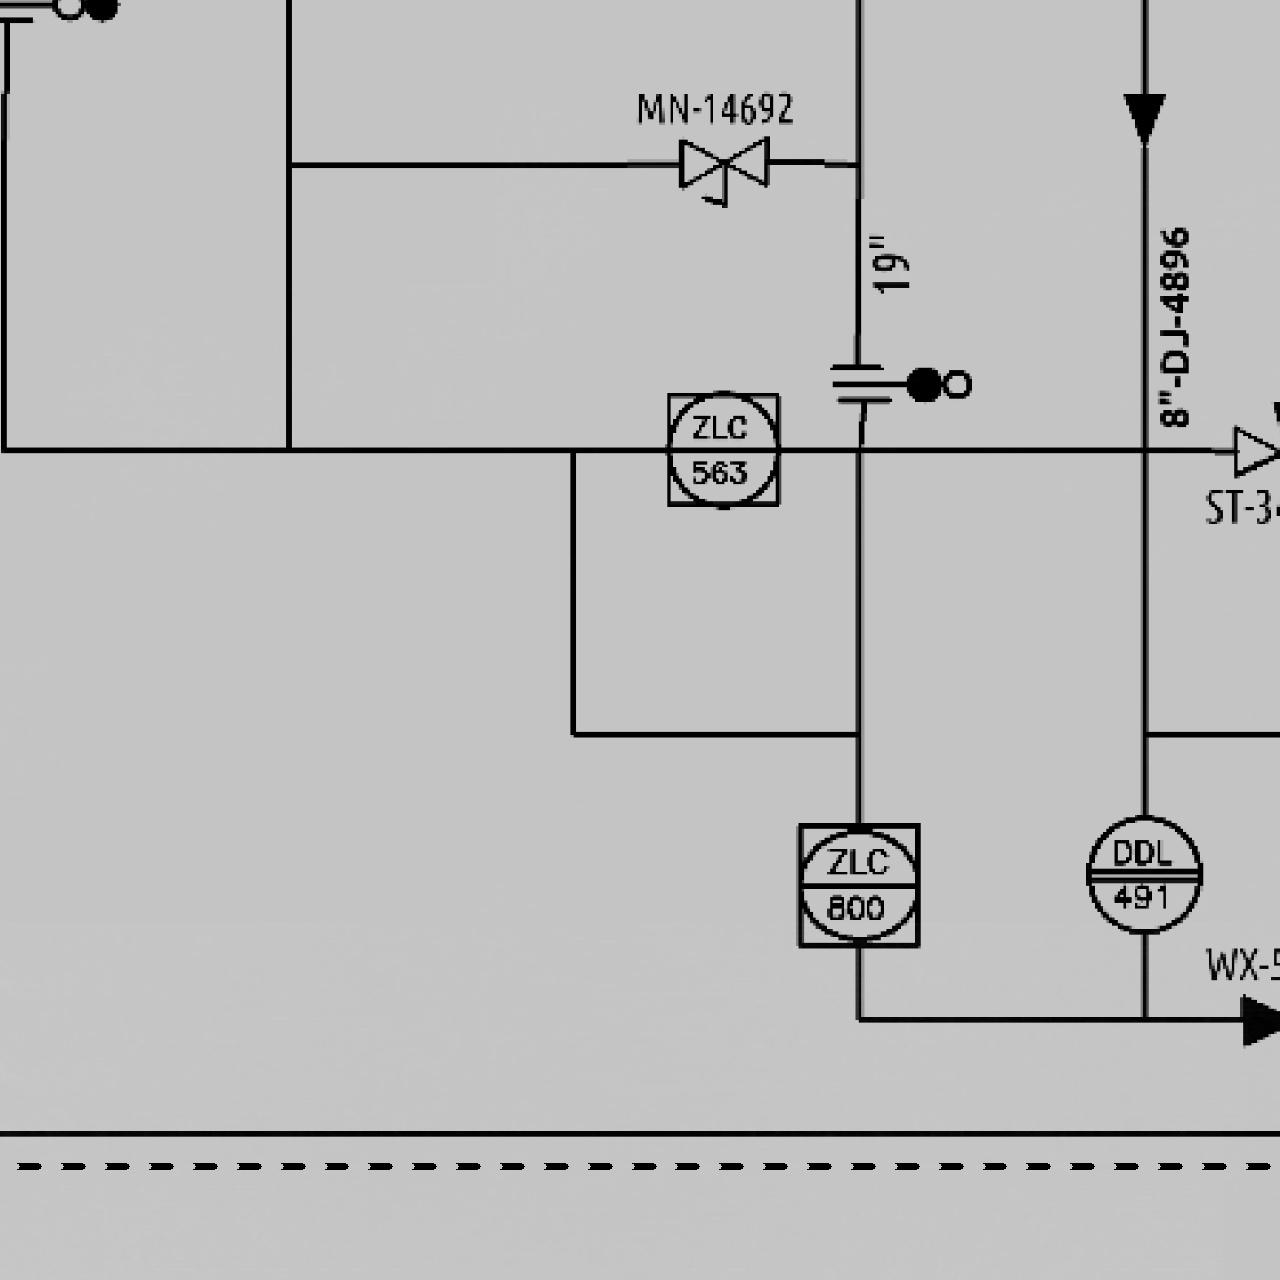Control-Panel: (1080, 810, 1207, 937)
